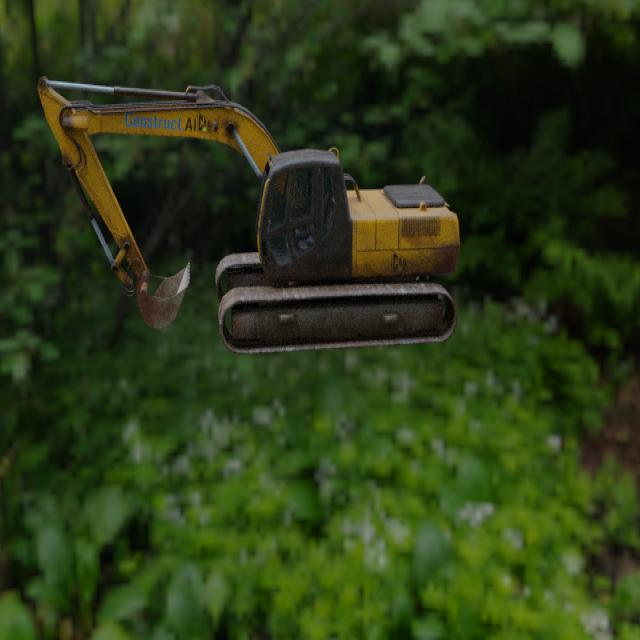excavator: (37, 74, 460, 354)
